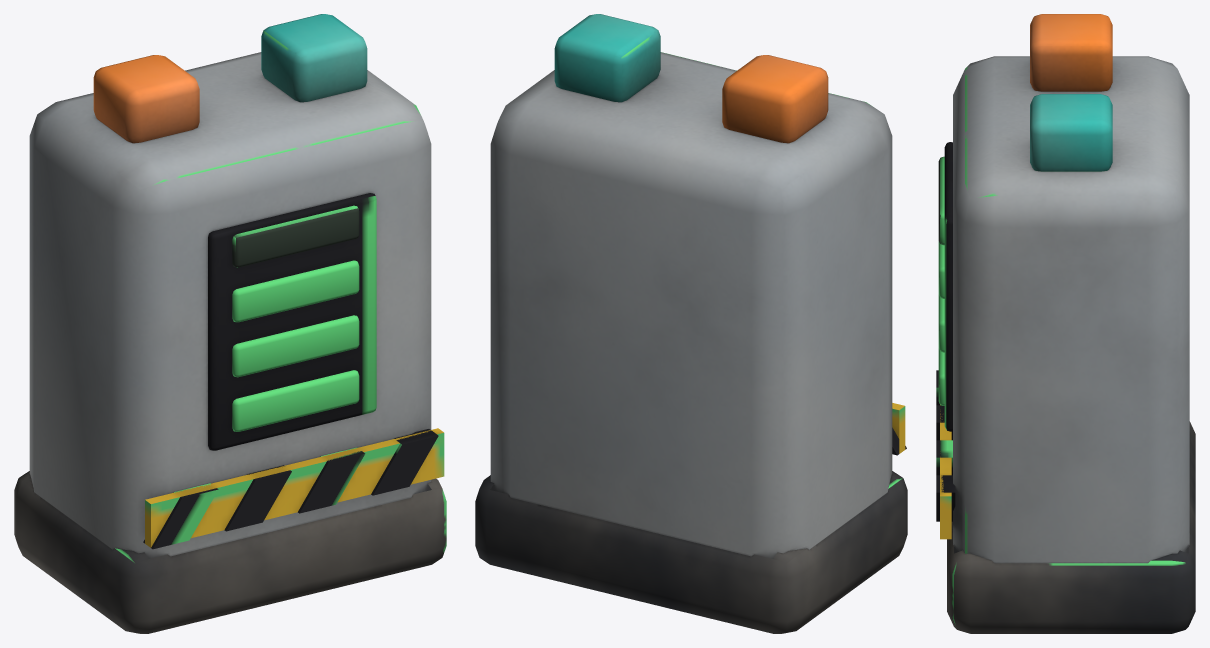
Rendered from battery.fbx.
The picture shows the model from 3 angles, left to right: view 1: azimuth 30°, elevation 25°; view 2: azimuth 150°, elevation 25°; view 3: azimuth 270°, elevation 25°; orthographic projection. The views are drawn at different scales.
Parts seen in each view (by area): view 1: Body, Glow; view 2: Body; view 3: Body, Glow.
Boxes of the visible parts, <box> form: Body: <box>14,14,446,633</box>; Glow: <box>232,260,359,431</box>; Body: <box>475,14,907,633</box>; Body: <box>936,14,1195,633</box>; Glow: <box>938,241,944,405</box>.
Size of the model in its own units: 0.31 by 0.465 by 0.219.
Materials: 1 (1 with a texture image).
